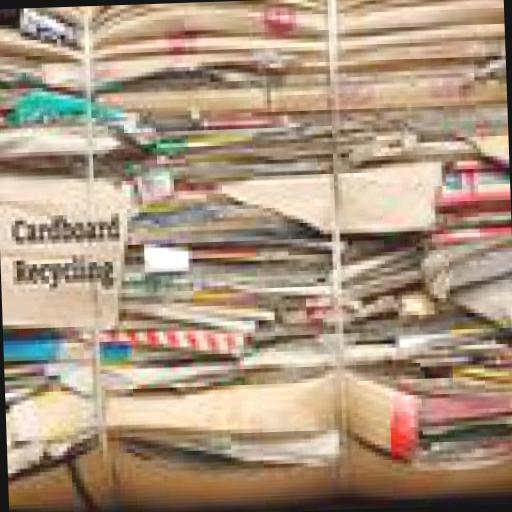cardboard: (0, 0, 512, 512), (4, 367, 512, 512), (6, 422, 512, 512), (0, 2, 501, 81), (94, 67, 504, 126), (116, 234, 330, 337), (0, 168, 130, 332), (327, 359, 512, 465), (15, 0, 499, 40), (132, 100, 504, 145), (217, 162, 435, 230), (3, 328, 232, 392), (152, 114, 412, 168), (235, 324, 511, 366), (0, 115, 150, 181), (415, 236, 511, 338), (122, 182, 303, 233), (412, 152, 508, 244), (116, 150, 206, 214), (324, 238, 414, 298), (330, 286, 442, 329), (10, 84, 127, 124), (404, 136, 469, 154), (468, 128, 504, 160)
